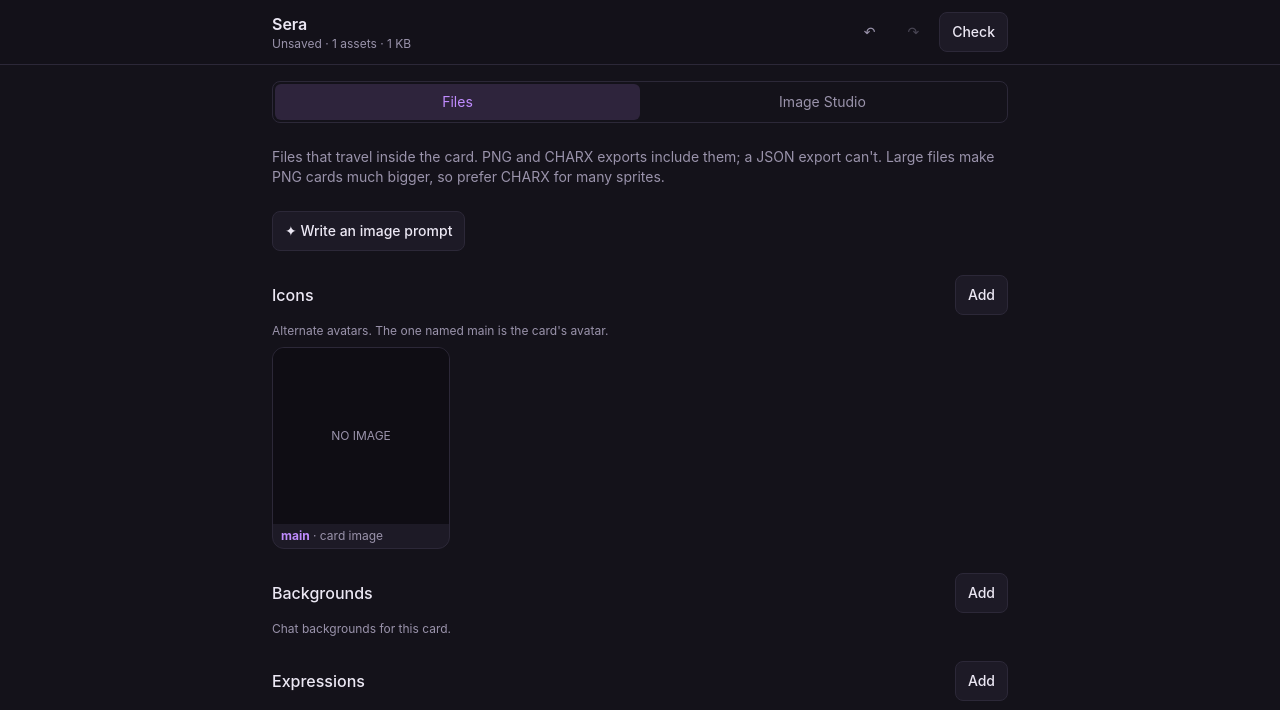
it: Image Studio page › fills a sheet from the card, leaves locked fields, and asks about the gaps
Click the tab "Image Studio".
click(822, 102)  # box [640,84,1005,120]
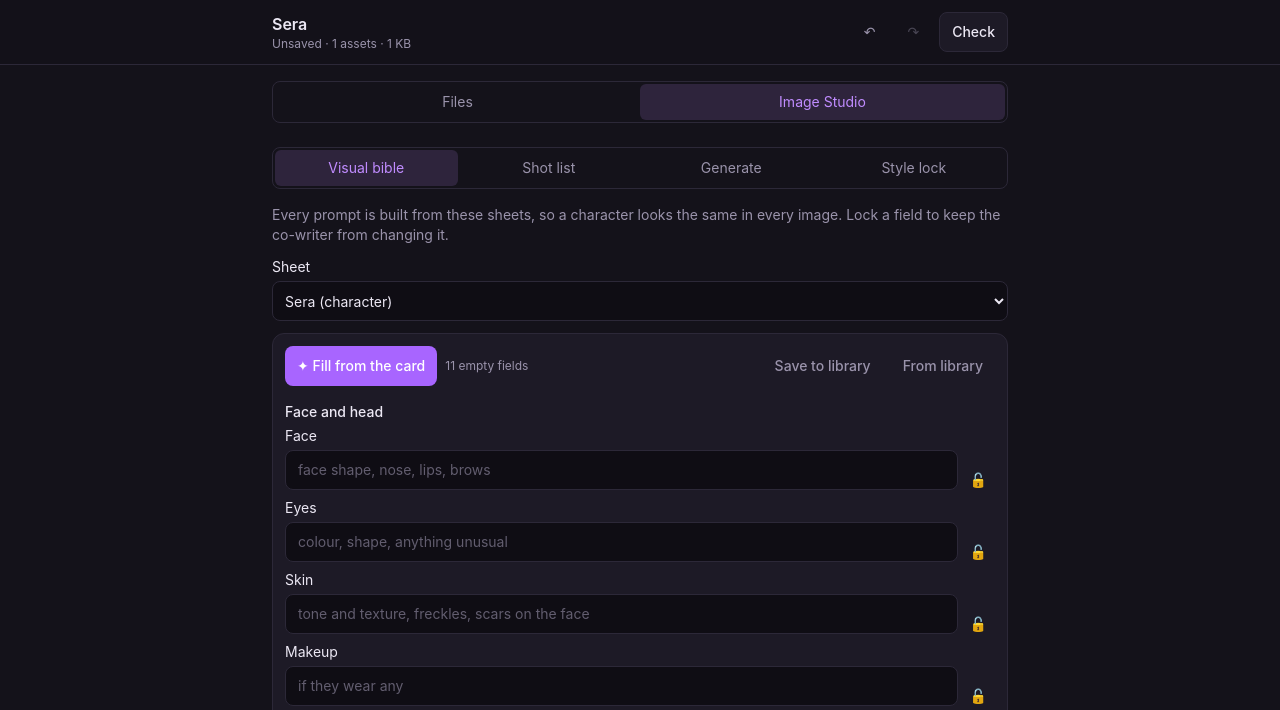
Click the button named "Lock Eyes".
click(978, 552)  # box [962,542,995,562]
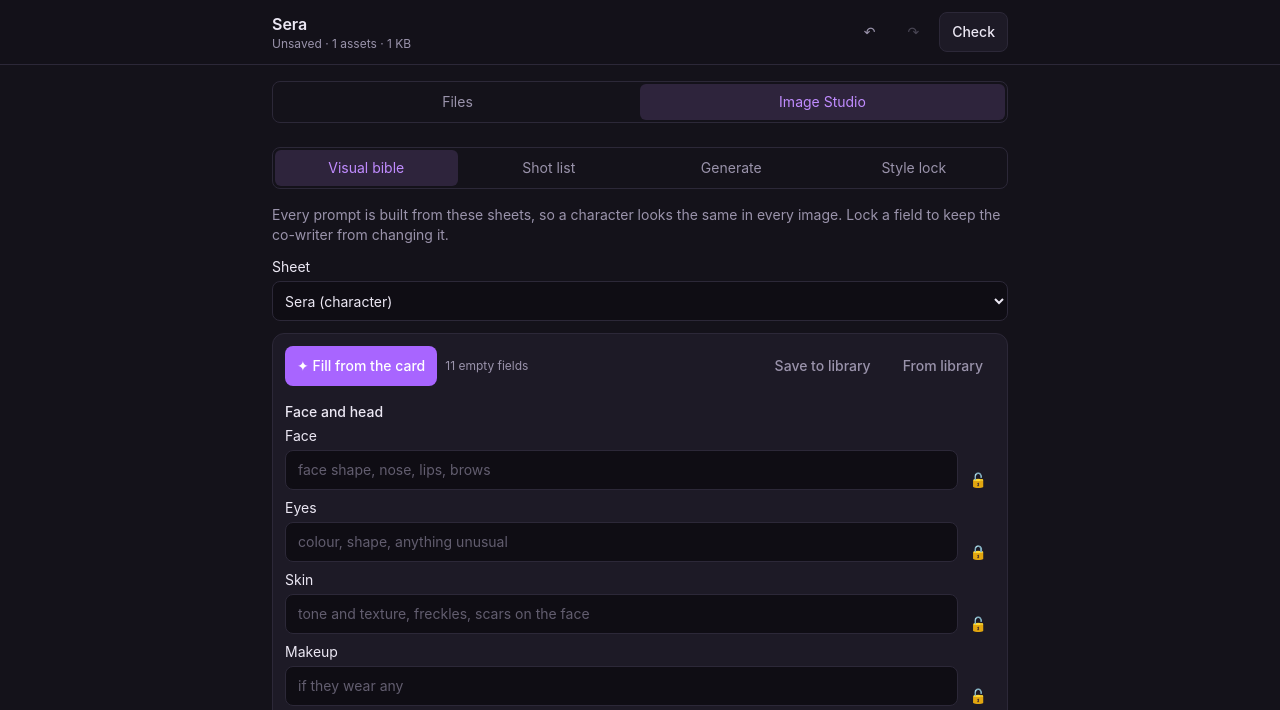
Click the button "✦ Fill from the card".
click(361, 366)  # box [285,346,437,386]
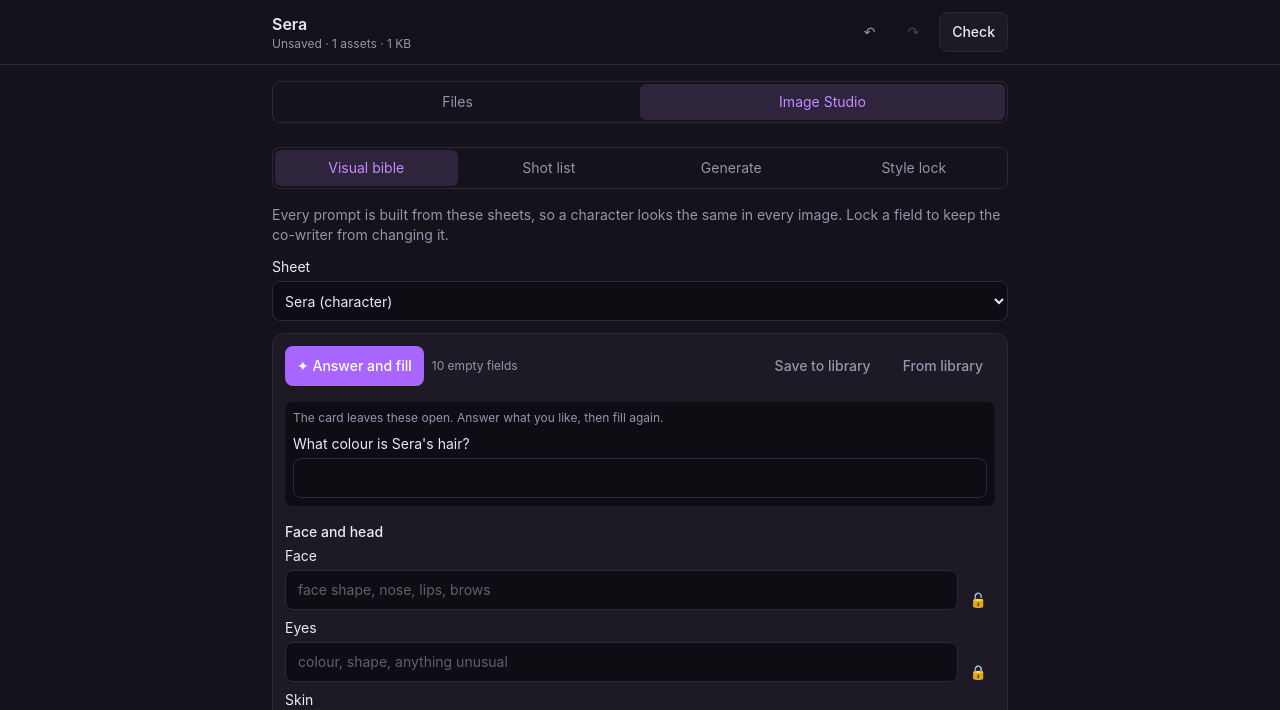
Now the text "What colour is Sera's hair?" is shown, box [293,434,987,498]
